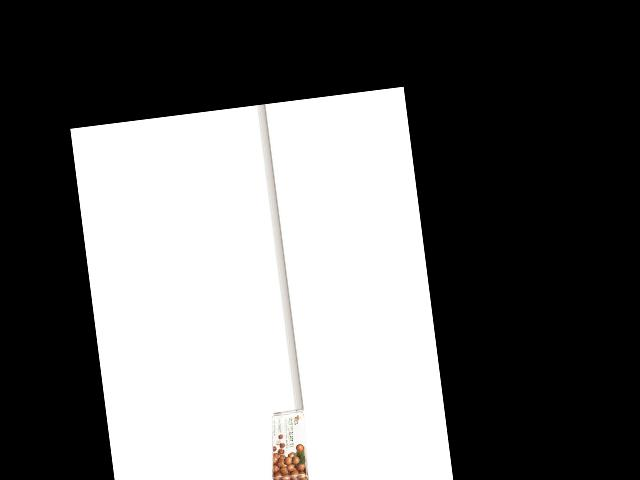chocolate: (263, 408, 310, 480)
